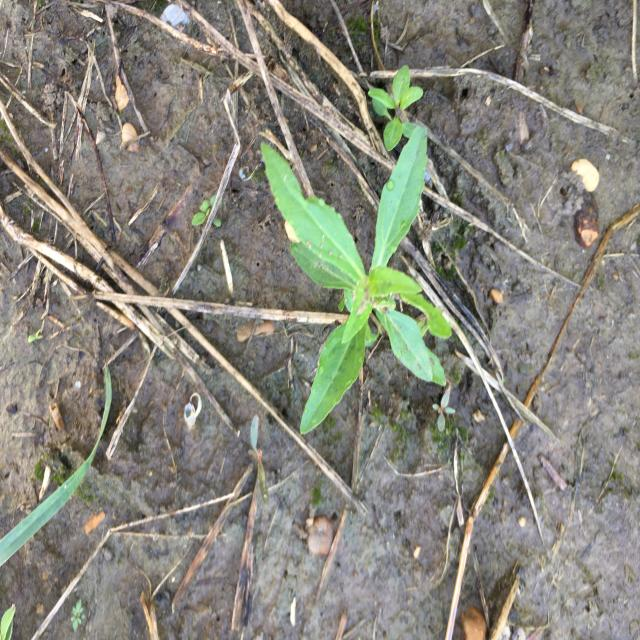Eclipta: (259, 122, 455, 437), (366, 64, 426, 154)
